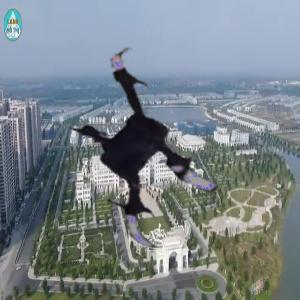drone: (51, 49, 256, 254)
